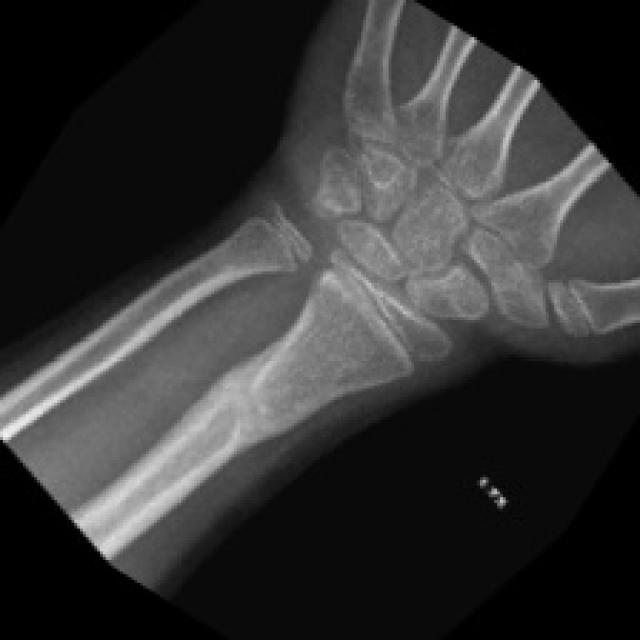fracture: (200, 349, 297, 454)
